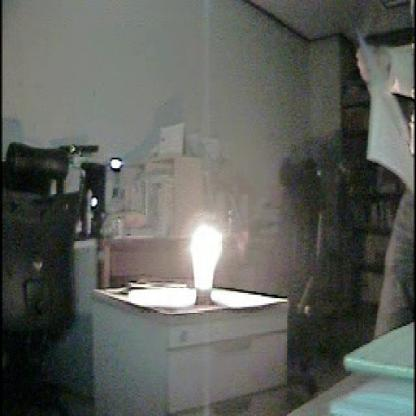fire: (176, 219, 241, 314)
